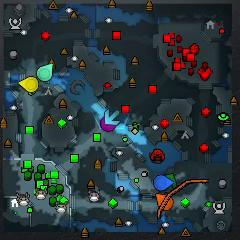p1: (153, 175, 174, 191)
p2: (37, 63, 53, 82)
p3: (101, 116, 117, 131)
p4: (19, 77, 39, 93)
p5: (156, 193, 174, 211)
x3: (105, 109, 121, 125)
x4: (166, 174, 176, 188)
